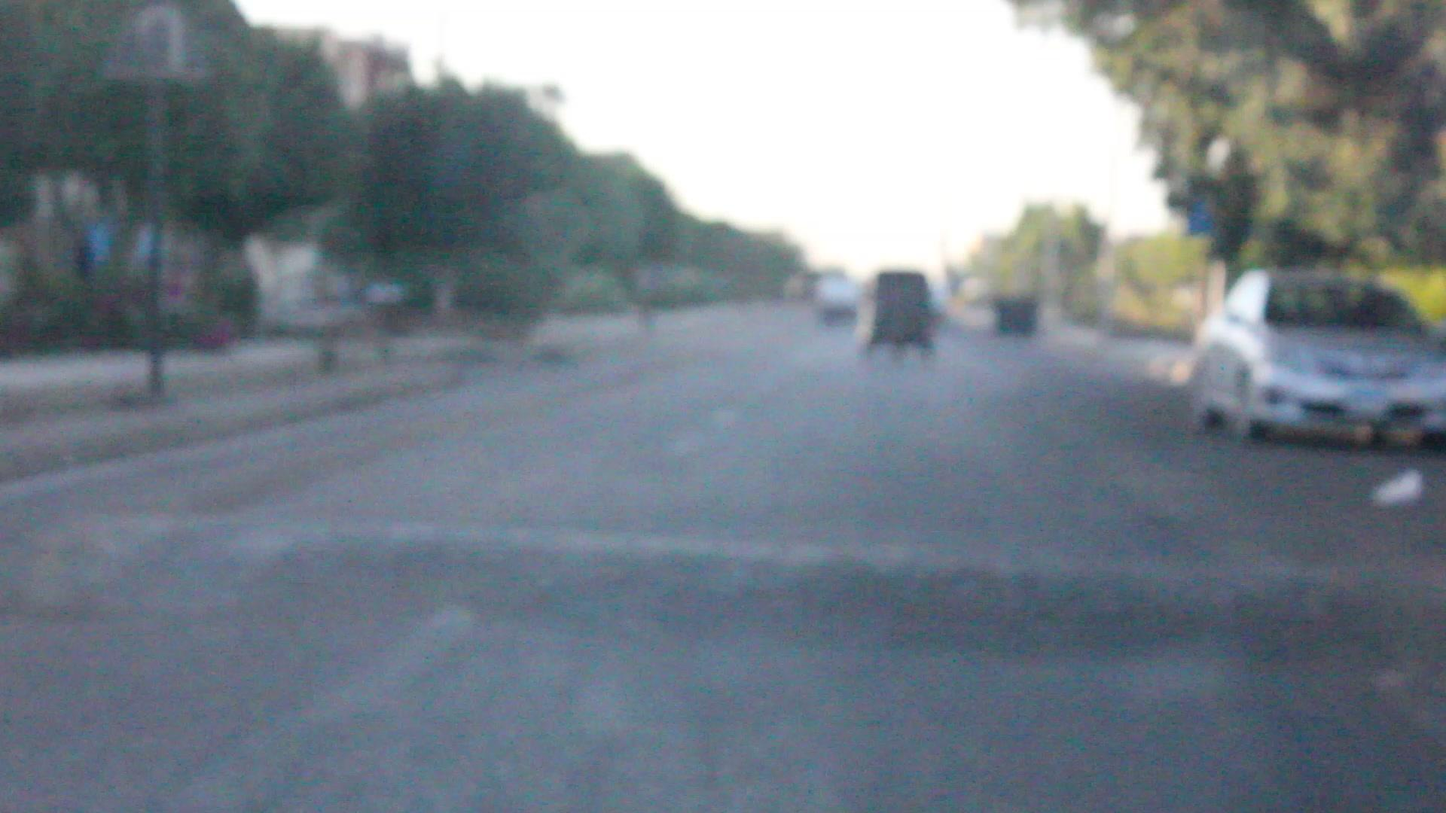Bump: (0, 498, 1445, 681)
